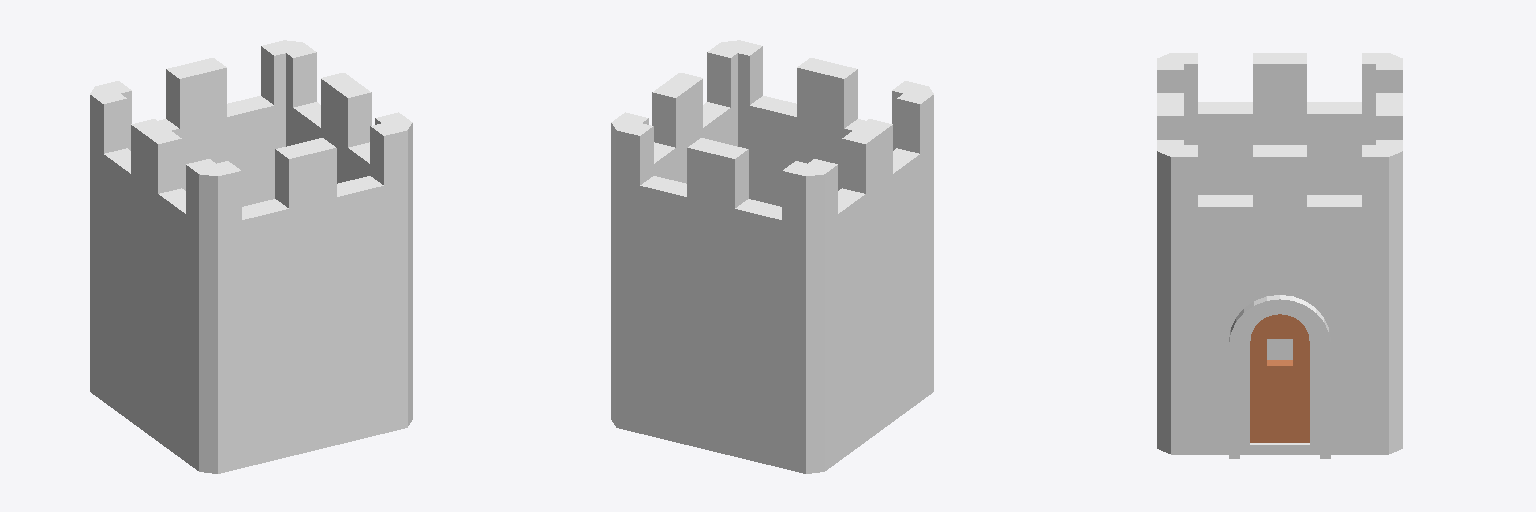
Rendered from capstone-white.obj.
3 views of the same model, side by side, from view 1: azimuth 30°, elevation 25°; view 2: azimuth 150°, elevation 25°; view 3: azimuth 270°, elevation 25° (orthographic).
Parts seen in each view (by area): view 1: wall_straight_4, battlement_corner_7, battlement_corner_8, wall_straight_3, wall_straight_5; view 2: wall_straight_5, battlement_corner_8, wall_straight_3, battlement_corner_7, wall_straight_4, wall_doorwayRound_2; view 3: wall_doorwayRound_2, battlement_corner_7, battlement_corner_8, door_round_6, wall_straight_3, wall_straight_4.
Part boxes in pixels (x1,y1,x2,y2): wall_straight_4: (199, 222, 412, 473); battlement_corner_7: (199, 40, 412, 275); battlement_corner_8: (90, 40, 288, 272); wall_straight_3: (90, 194, 217, 472); wall_straight_5: (182, 155, 274, 206); wall_straight_5: (616, 230, 824, 473); battlement_corner_8: (612, 87, 933, 275); wall_straight_3: (825, 194, 933, 470); battlement_corner_7: (611, 40, 933, 227); wall_straight_4: (749, 155, 841, 206); wall_doorwayRound_2: (611, 222, 615, 425); wall_doorwayRound_2: (1157, 251, 1402, 458); battlement_corner_7: (1157, 53, 1402, 255); battlement_corner_8: (1161, 53, 1402, 163); door_round_6: (1240, 310, 1319, 454); wall_straight_3: (1198, 164, 1361, 359); wall_straight_4: (1157, 251, 1170, 453).
Size of the model in its own units: 1.18 by 1.5 by 1.12.